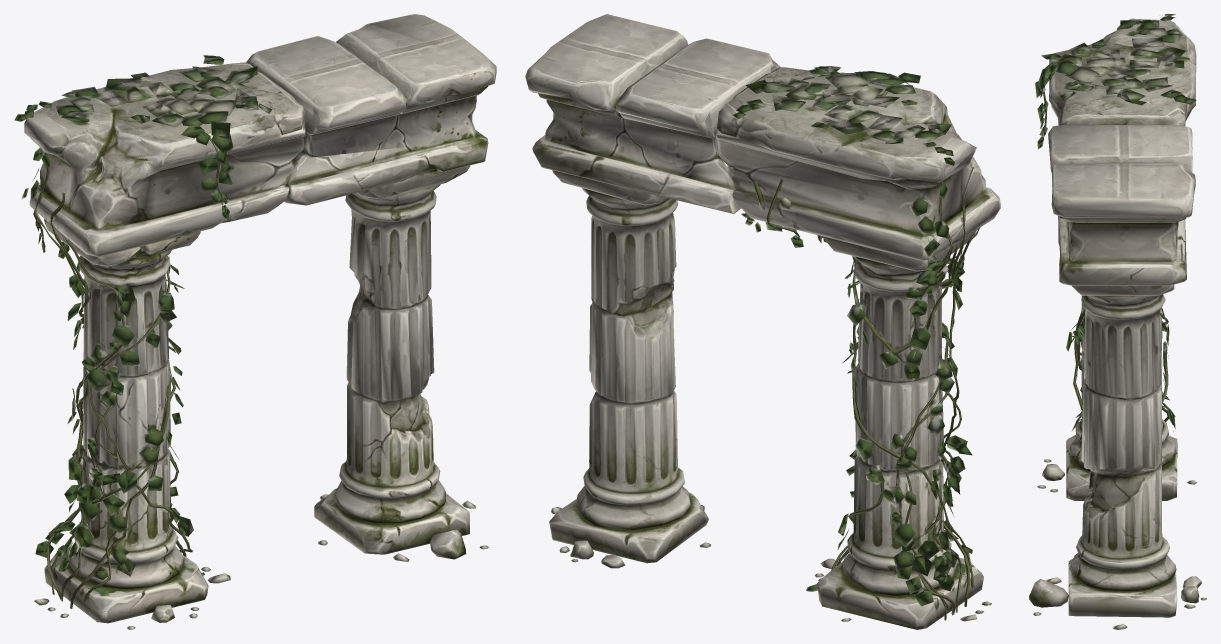
File: ruins.glb
The picture shows the model from 3 angles, left to right: view 1: azimuth 30°, elevation 25°; view 2: azimuth 150°, elevation 25°; view 3: azimuth 270°, elevation 25°; orthographic projection. The views are drawn at different scales.
Size of the model in its own units: 0.8911 by 0.9531 by 0.352.
Materials: 1 (1 with a texture image).
